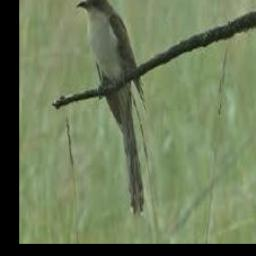Cuckoo: (78, 0, 149, 218)
